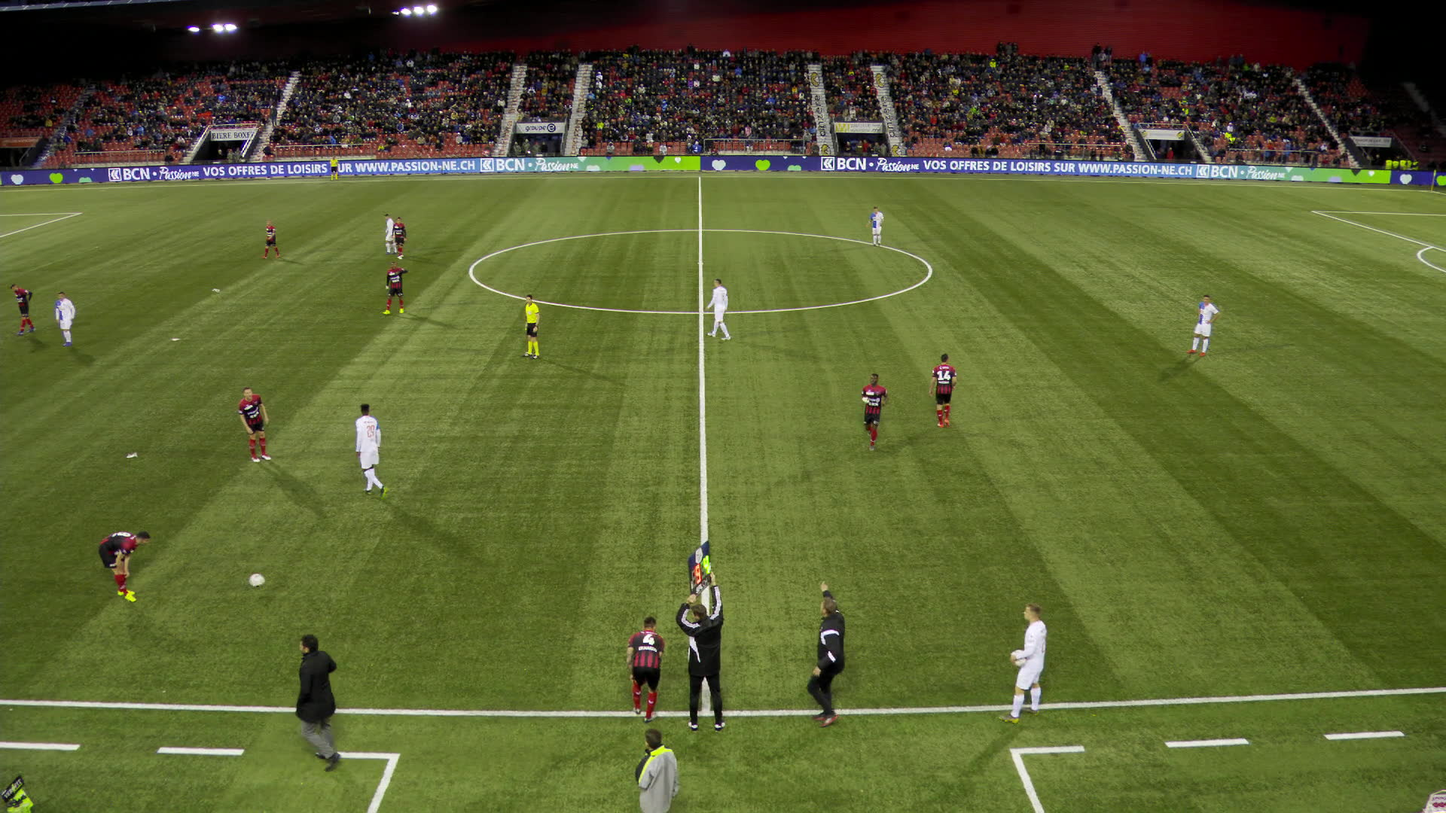ball: (1011, 650, 1025, 665), (243, 571, 258, 585)
player: (1003, 603, 1047, 723), (98, 531, 149, 601), (355, 403, 388, 499), (237, 386, 271, 461), (859, 370, 886, 449), (1185, 294, 1219, 356), (929, 353, 955, 428), (706, 279, 728, 341), (383, 261, 408, 314), (10, 283, 35, 334), (55, 292, 76, 346), (261, 219, 279, 258), (866, 206, 883, 247), (390, 217, 405, 259), (383, 214, 397, 255)
referee: (520, 294, 538, 360), (329, 156, 337, 181)
